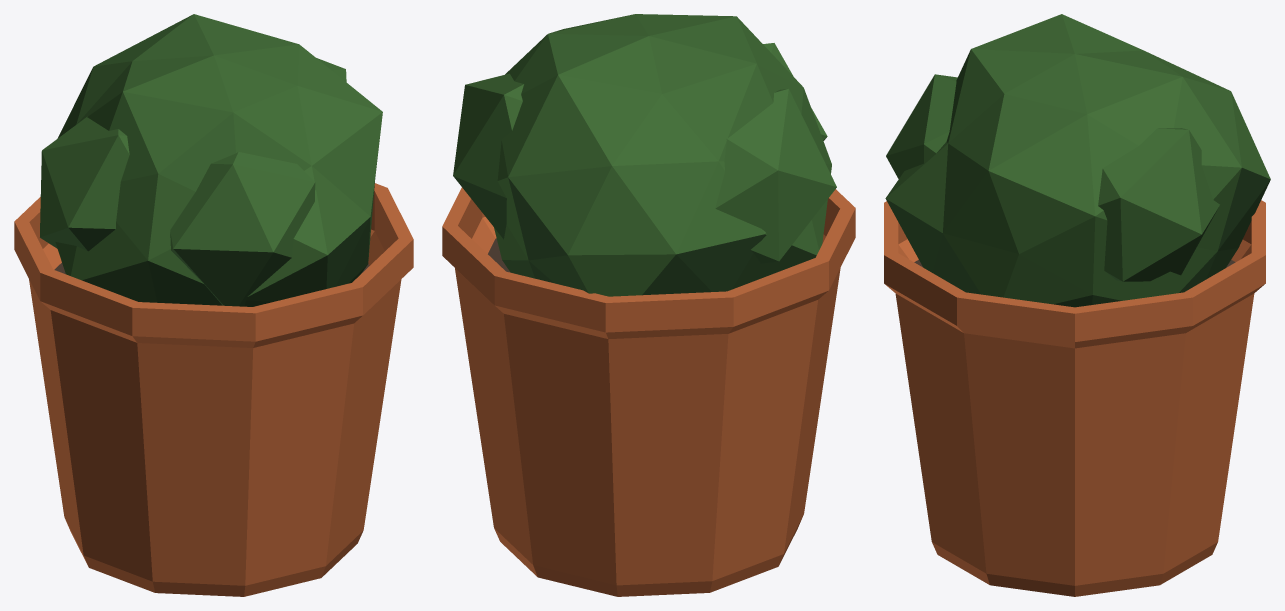
File: SM_Street_Pot_Round_M_Foliage_01.gltf
3 renders of one model, left to right at view 1: azimuth 30°, elevation 25°; view 2: azimuth 150°, elevation 25°; view 3: azimuth 270°, elevation 25°, orthographic. The views are drawn at different scales.
Parts seen in each view (by area): view 1: SM_Street_Pot_Round_M_Foliage_01; view 2: SM_Street_Pot_Round_M_Foliage_01; view 3: SM_Street_Pot_Round_M_Foliage_01.
Part boxes in pixels (left/top/right/bottom): SM_Street_Pot_Round_M_Foliage_01: left=14, top=14, right=413, bottom=596; SM_Street_Pot_Round_M_Foliage_01: left=442, top=14, right=855, bottom=596; SM_Street_Pot_Round_M_Foliage_01: left=884, top=14, right=1270, bottom=596.
Bounding box in the file's own units: 0.32 × 0.4239 × 0.3084.
1 material, 1 textured.
